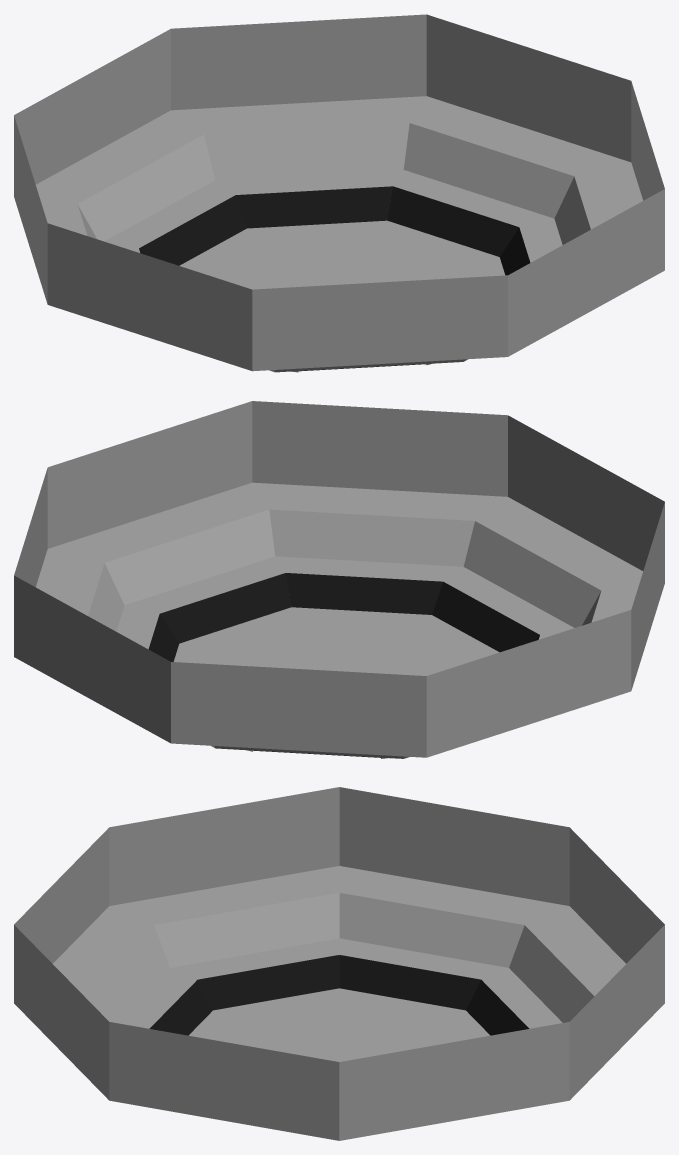
File: SM_Prop_FireDetect.fbx
3 renders of one model, top to bottom at view 1: azimuth 30°, elevation 25°; view 2: azimuth 150°, elevation 25°; view 3: azimuth 270°, elevation 25°, orthographic. The views are drawn at different scales.
Parts seen in each view (by area): view 1: SM_Prop_FireDetect; view 2: SM_Prop_FireDetect; view 3: SM_Prop_FireDetect.
Boxes of the visible parts, x1,y1,x2,y2 form: SM_Prop_FireDetect: (14, 14, 664, 372); SM_Prop_FireDetect: (14, 401, 664, 758); SM_Prop_FireDetect: (14, 787, 664, 1140).
Size of the model in its own units: 32.68 by 7.72 by 32.68.
1 material, 1 textured.
